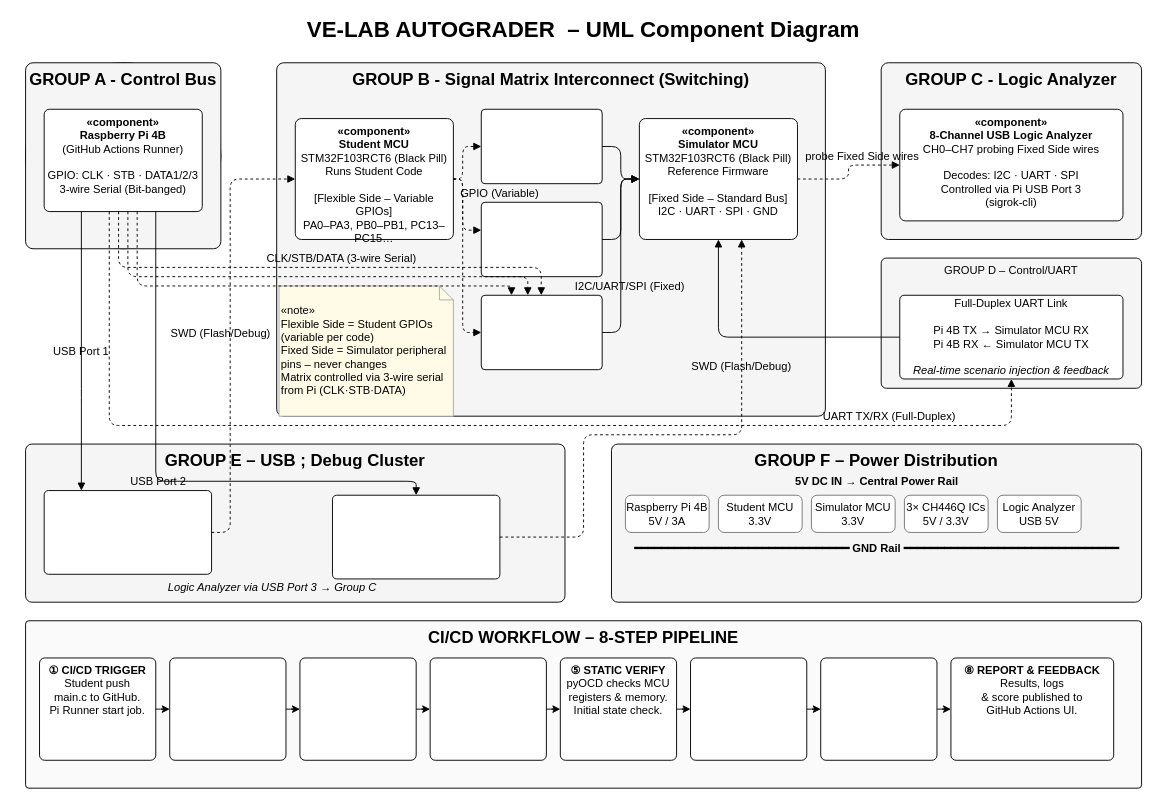
The diagram is 1158 pixels wide and 804 high, and some of its shapes have lost their labels. Each missing label, with the centre of its shape:
"«component» CH446Q #1 16×8 Crosspoint Matrix Switch" goes at (541,146).
"«component» CH446Q #2 16×8 Crosspoint Matrix Switch" goes at (541,239).
"«component» CH446Q #3 16×8 Crosspoint Matrix Switch" goes at (541,332).
"«component» ST-Link V2 #1 Pi USB Port 1 → Student MCU SWD Port" goes at (127,532).
"«component» ST-Link V2 #2 Pi USB Port 2 → Simulator MCU SWD Port" goes at (416,536).
"② BUILD & CONFIG Compile student & reference code to HEX. Read JSON pin map." goes at (227,708).
"③ MATRIX SETUP Pi configures 3× CH446Q via 3-wire serial (GPIO)." goes at (357,708).
"④ FW DEPLOY st-flash programs stu.hex & sim.hex to both STM32." goes at (487,708).
"⑥ DYNAMIC CAP. Pi triggers Logic Analyzer; injects scenarios via UART." goes at (748,708).
"⑦ GRADING ENGINE Python compares captured vs expected JSON test cases." goes at (878,708).
